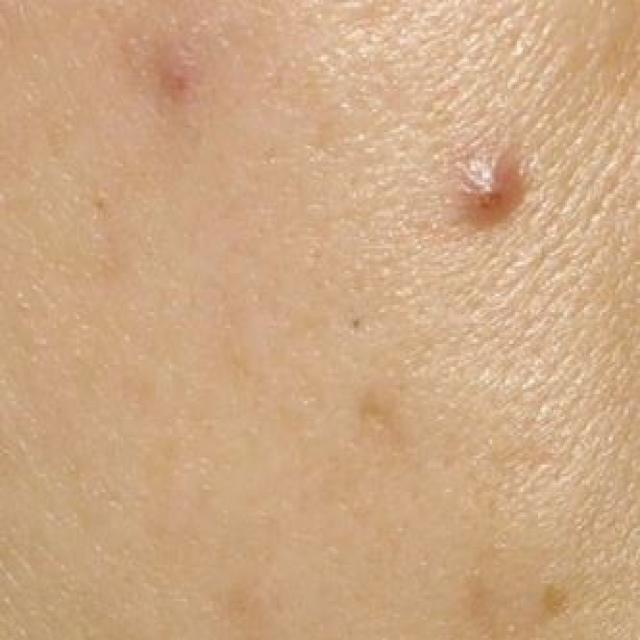blackheads: (463, 147, 516, 235)
